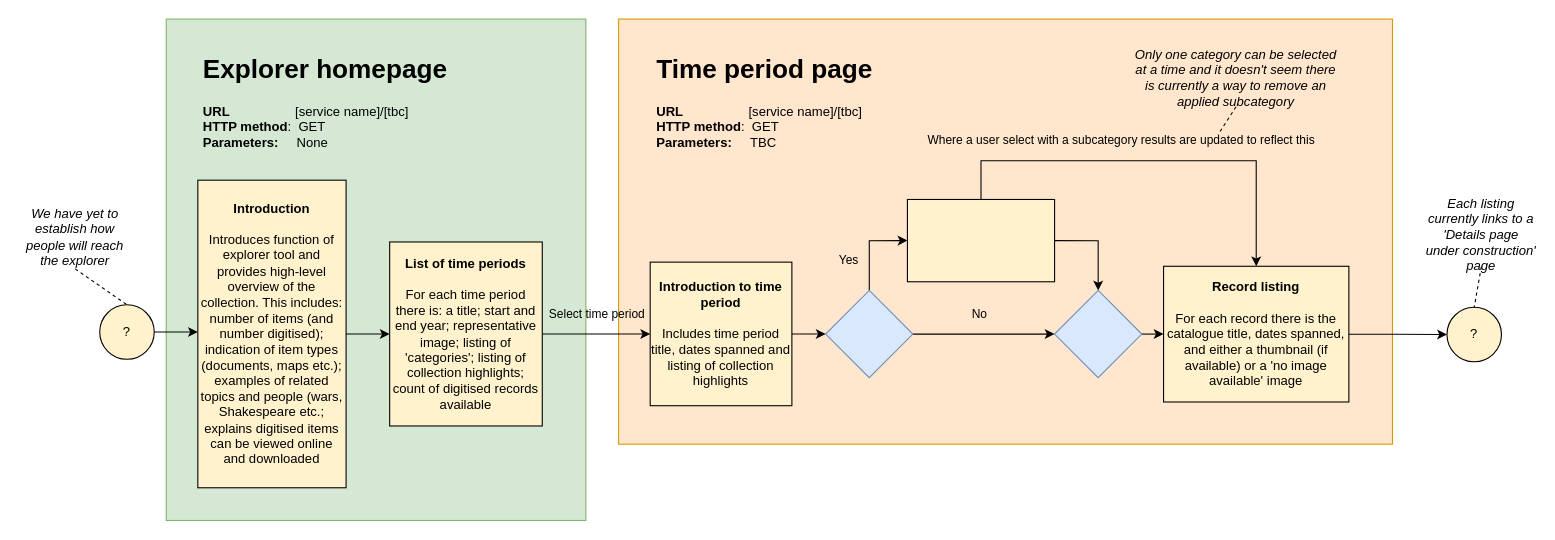
This 1555x540 diagram has some shape labels left out. Each missing label, with the centre of its shape:
"Subcategories available" goes at (x=869, y=333).
"Subcategory listing Present a filter for each subcategory" goes at (x=980, y=240).
